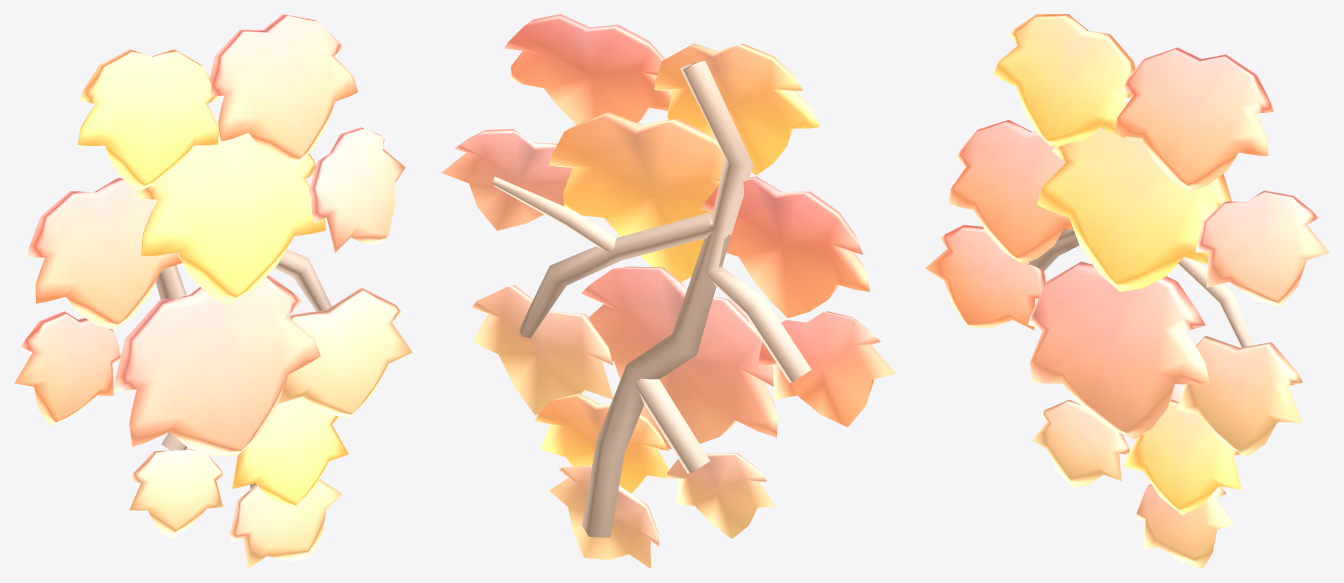
Rendered from Homestead_wsj_4.fbx.
The picture shows the model from 3 angles, left to right: view 1: azimuth 30°, elevation 25°; view 2: azimuth 150°, elevation 25°; view 3: azimuth 330°, elevation 25°; orthographic projection. The views are drawn at different scales.
Parts seen in each view (by area): view 1: Homestead_wsj_4; view 2: Homestead_wsj_4; view 3: Homestead_wsj_4.
Boxes of the visible parts, <box> form: Homestead_wsj_4: <box>14,14,412,568</box>; Homestead_wsj_4: <box>441,14,896,568</box>; Homestead_wsj_4: <box>925,14,1329,568</box>.
Bounding box in the file's own units: 152 × 189 × 24.82.
